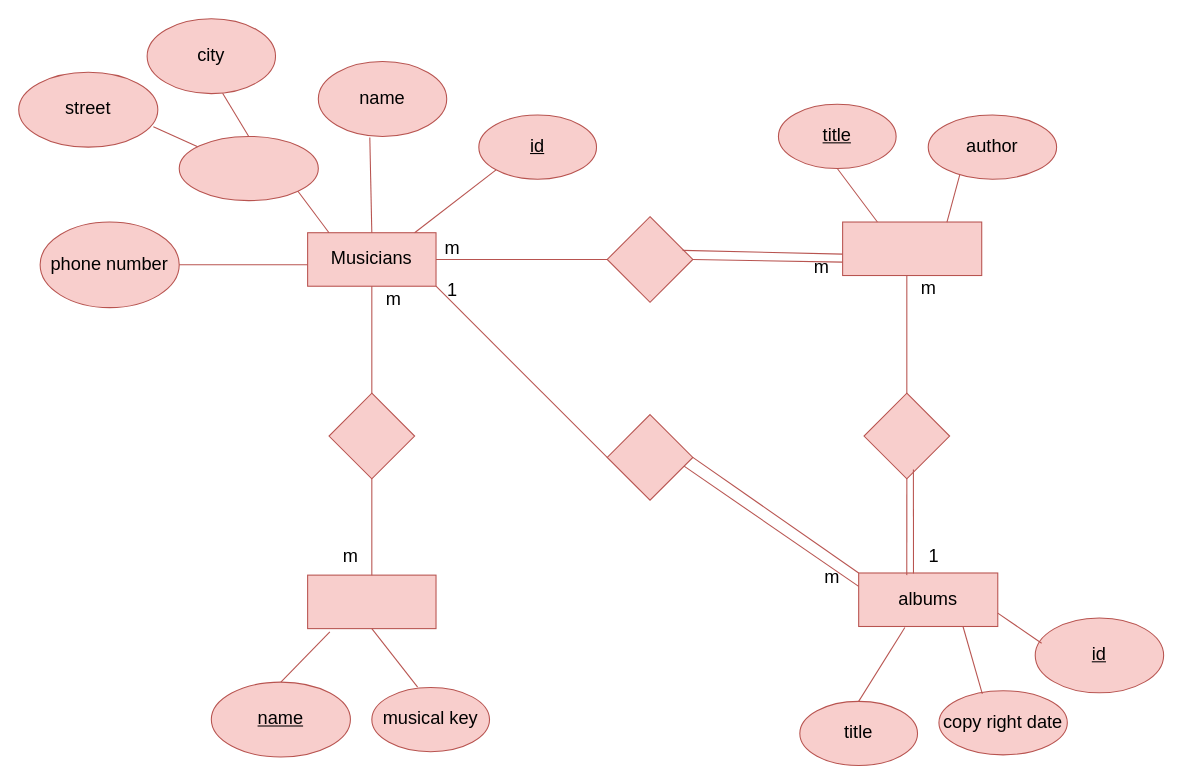
Image size: 1182x784. Some labels were removed from this diagram. The box of each missing label's shape, as (x1, y1, x2, y2) in pixels:
address: (178, 135, 318, 201)
has: (863, 392, 950, 479)
instument: (307, 574, 436, 629)
perform: (606, 216, 693, 302)
play: (328, 392, 415, 479)
produce: (606, 414, 693, 500)
songs: (842, 221, 982, 276)
